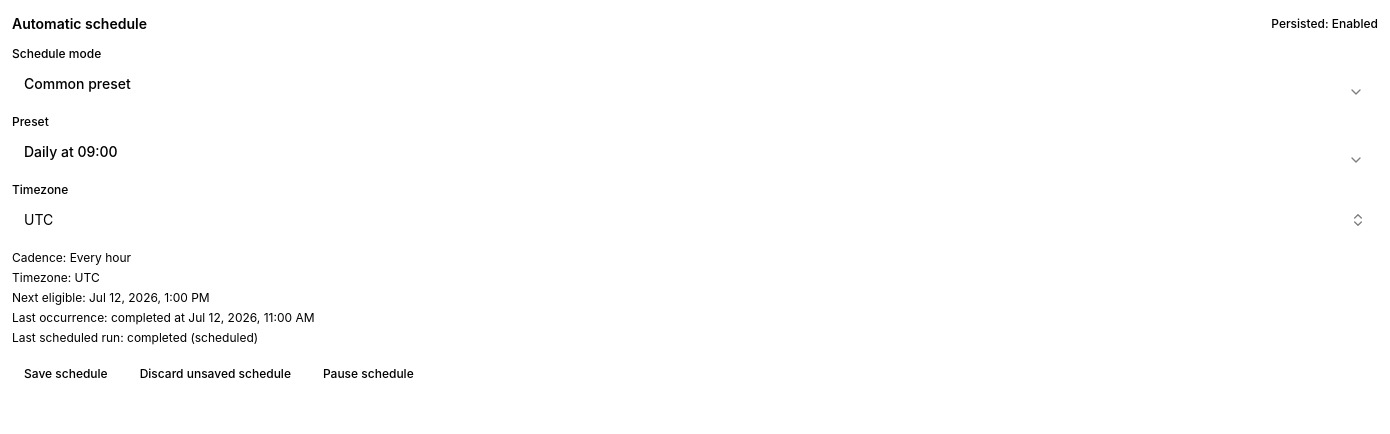
ConnectorScheduleControls async FormFailureAlert ownership › pauses and resumes using returned revisions and shows last schedule outcomes
Expected: the text "Persisted: Enabled" is shown, [1271, 16, 1378, 32]
Expected: the text "Last occurrence: completed at Jul 12, 2026, 11:00 AM" is shown, [12, 310, 314, 325]
Click the button "Pause schedule" at (368, 374), box [311, 358, 426, 390]
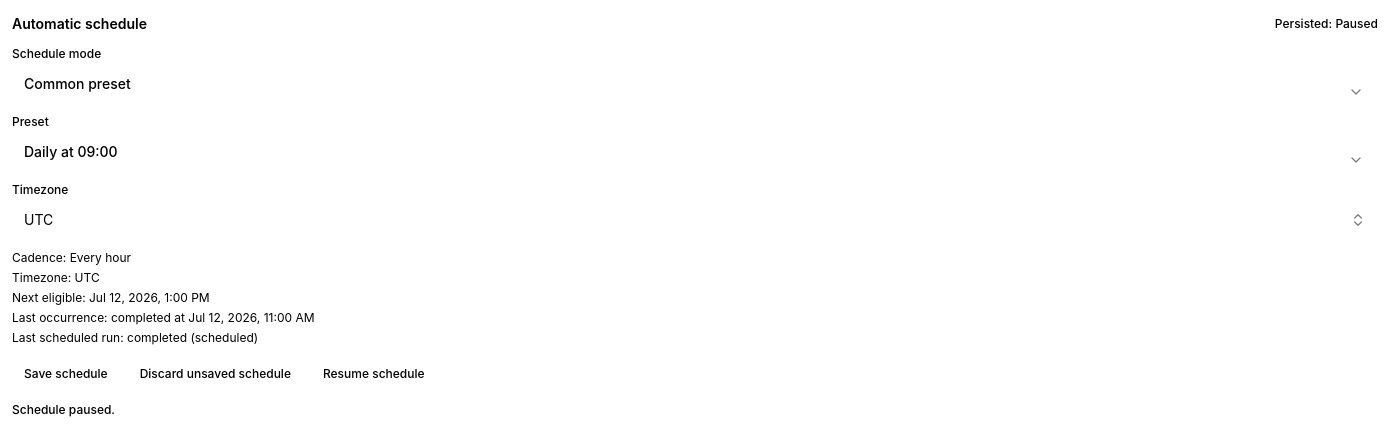
Result: the text "Persisted: Paused" is shown at [1275, 16, 1378, 32]
Click the button "Resume schedule" at (374, 374), box [311, 358, 436, 390]
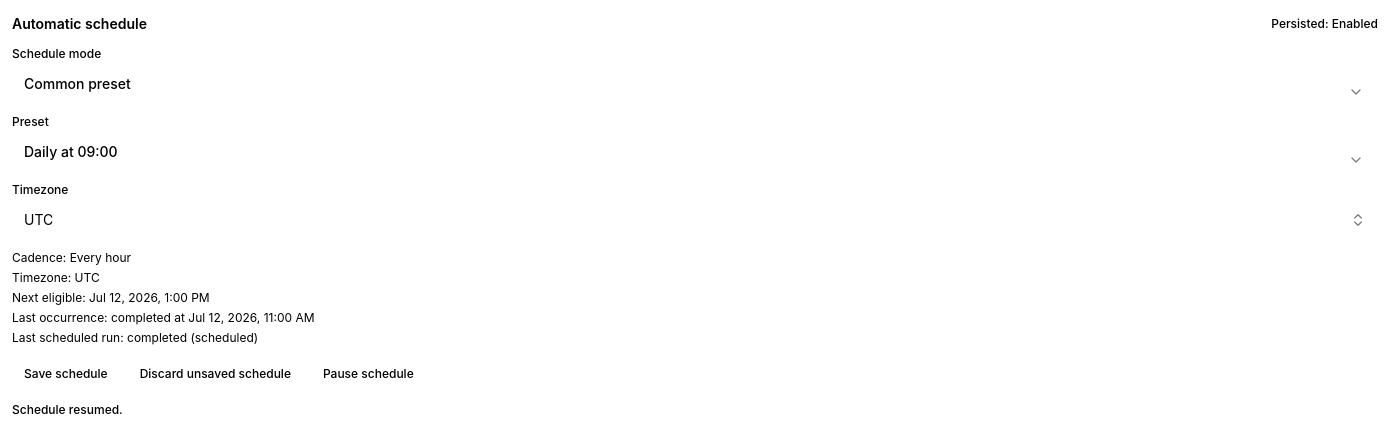
Result: the text "Persisted: Enabled" is shown at [1271, 16, 1378, 32]
